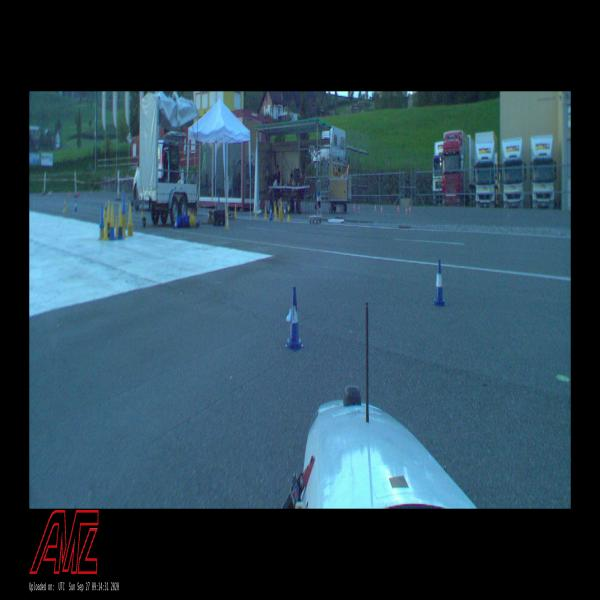blue_cone: (285, 287, 304, 351), (432, 260, 447, 306)
